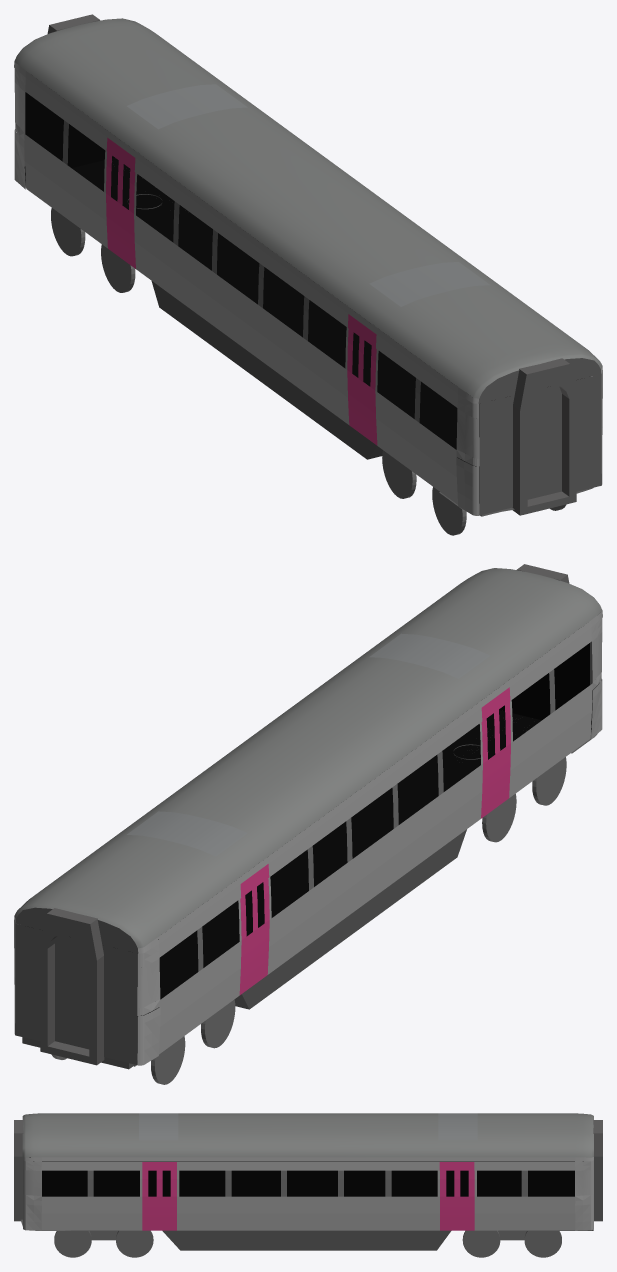
The model's file is br-170-abellio-middle.dae.
3 renders of one model, top to bottom at view 1: azimuth 30°, elevation 25°; view 2: azimuth 150°, elevation 25°; view 3: azimuth 270°, elevation 25°, orthographic. The views are drawn at different scales.
Parts seen in each view (by area): view 1: Suzanne_019, Plane_036, Plane_288, Plane_039, Plane_034, Tube_002, Cube_001, Suzanne_025, Plane_057, Plane_056, Plane_286, Suzanne_017 (+10 smaller); view 2: Suzanne_019, Plane_036, Plane_288, Plane_322, Plane_034, Tube_004, Cube_001, Suzanne_025, Plane_057, Plane_056, Plane_286, Suzanne_018 (+10 smaller); view 3: Suzanne_019, Plane_314, Plane_035, Plane_289, Cube_001, Suzanne_025, Plane_309, Plane_320, Plane_291, Suzanne_017, Suzanne_018, Tube_004 (+12 smaller).
Part boxes in pixels (left/top/right/bottom): Suzanne_019: left=14, top=18, right=602, bottom=398; Plane_036: left=24, top=157, right=479, bottom=502; Plane_288: left=24, top=134, right=457, bottom=504; Plane_039: left=479, top=374, right=601, bottom=515; Plane_034: left=24, top=140, right=456, bottom=477; Tube_002: left=512, top=358, right=576, bottom=515; Cube_001: left=151, top=281, right=382, bottom=459; Suzanne_025: left=25, top=71, right=458, bottom=393; Plane_057: left=106, top=193, right=377, bottom=445; Plane_056: left=25, top=85, right=457, bottom=407; Plane_286: left=25, top=78, right=457, bottom=400; Suzanne_017: left=127, top=84, right=247, bottom=129; Suzanne_019: left=14, top=568, right=602, bottom=948; Plane_036: left=137, top=710, right=591, bottom=1052; Plane_288: left=159, top=683, right=592, bottom=1054; Plane_322: left=15, top=923, right=137, bottom=1064; Plane_034: left=160, top=691, right=592, bottom=1026; Tube_004: left=40, top=908, right=104, bottom=1065; Cube_001: left=234, top=829, right=466, bottom=1009; Suzanne_025: left=158, top=620, right=591, bottom=943; Plane_057: left=239, top=743, right=510, bottom=994; Plane_056: left=159, top=634, right=591, bottom=957; Plane_286: left=159, top=628, right=591, bottom=950; Suzanne_018: left=369, top=633, right=490, bottom=678; Suzanne_019: left=22, top=1113, right=593, bottom=1157; Plane_314: left=29, top=1157, right=583, bottom=1196; Plane_035: left=41, top=1196, right=575, bottom=1230; Plane_289: left=41, top=1201, right=575, bottom=1213; Cube_001: left=162, top=1230, right=451, bottom=1250; Suzanne_025: left=41, top=1157, right=575, bottom=1161; Plane_309: left=142, top=1196, right=474, bottom=1230; Plane_320: left=41, top=1166, right=575, bottom=1170; Plane_291: left=42, top=1162, right=574, bottom=1166; Suzanne_017: left=438, top=1113, right=477, bottom=1140; Suzanne_018: left=139, top=1113, right=178, bottom=1140; Tube_004: left=593, top=1120, right=602, bottom=1221.
Size of the model in its own units: 2.06 by 12.4 by 2.72.
